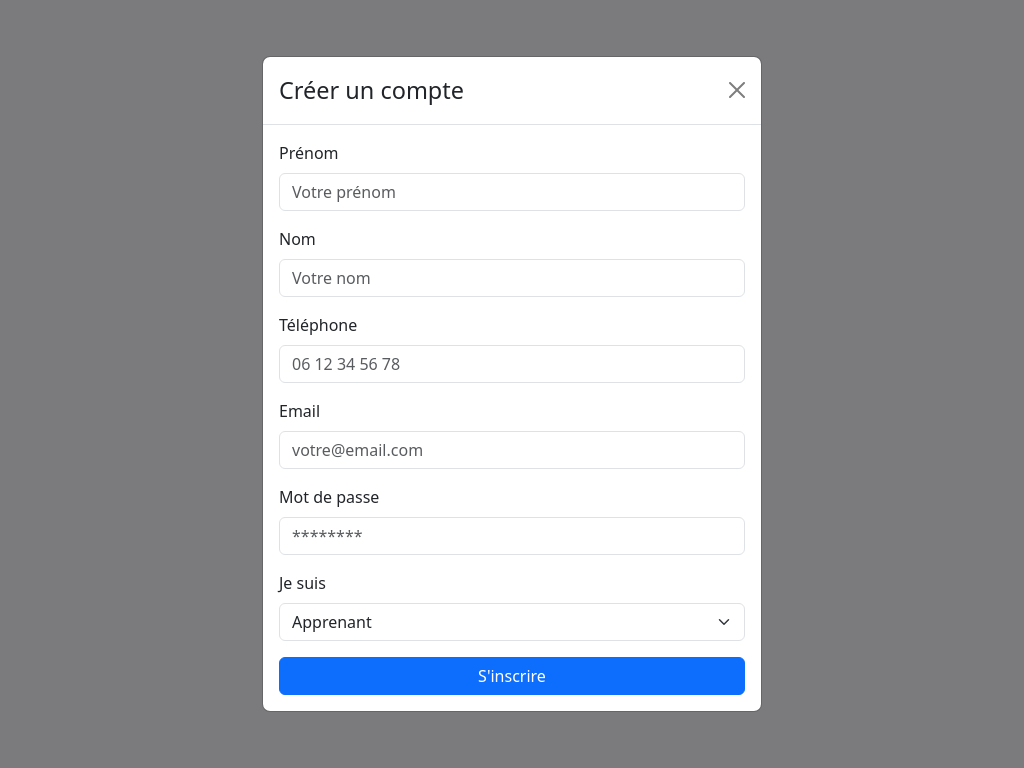
Test: RegisterModal › bloque l envoi quand la validation client echoue (mot de passe faible)
Type "Al" into the field with placeholder "Votre prénom".
click(512, 192); type("Al")  # box [279,173,745,211]
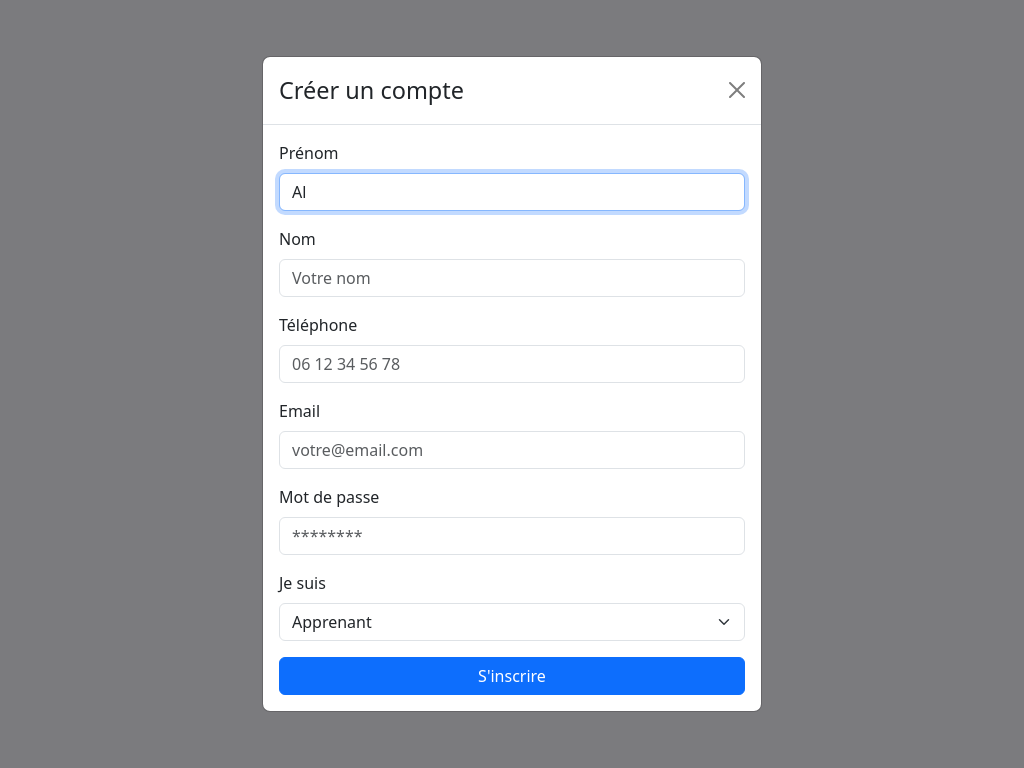
Type "Ma" into the field with placeholder "Votre nom".
click(512, 278); type("Ma")  # box [279,259,745,297]
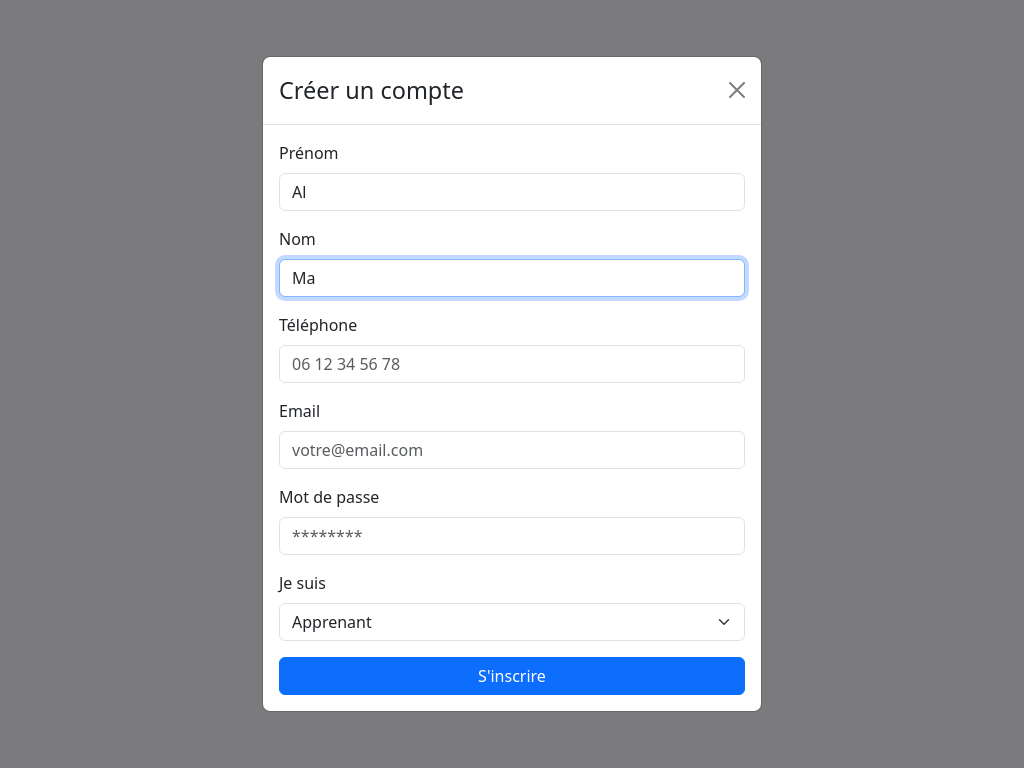
Type "+261340000000" into the field with placeholder "06 12 34 56 78".
click(512, 364); type("+261340000000")  # box [279,345,745,383]
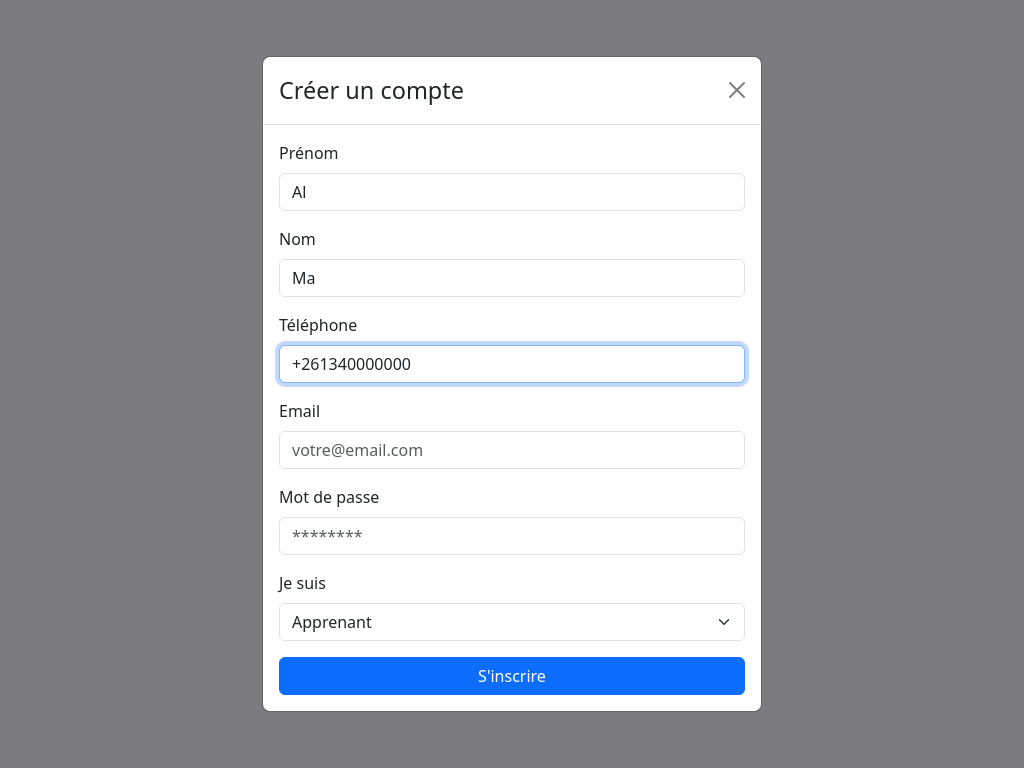
Type "al@test.com" into the field with placeholder "votre@email.com".
click(512, 450); type("al@test.com")  # box [279,431,745,469]
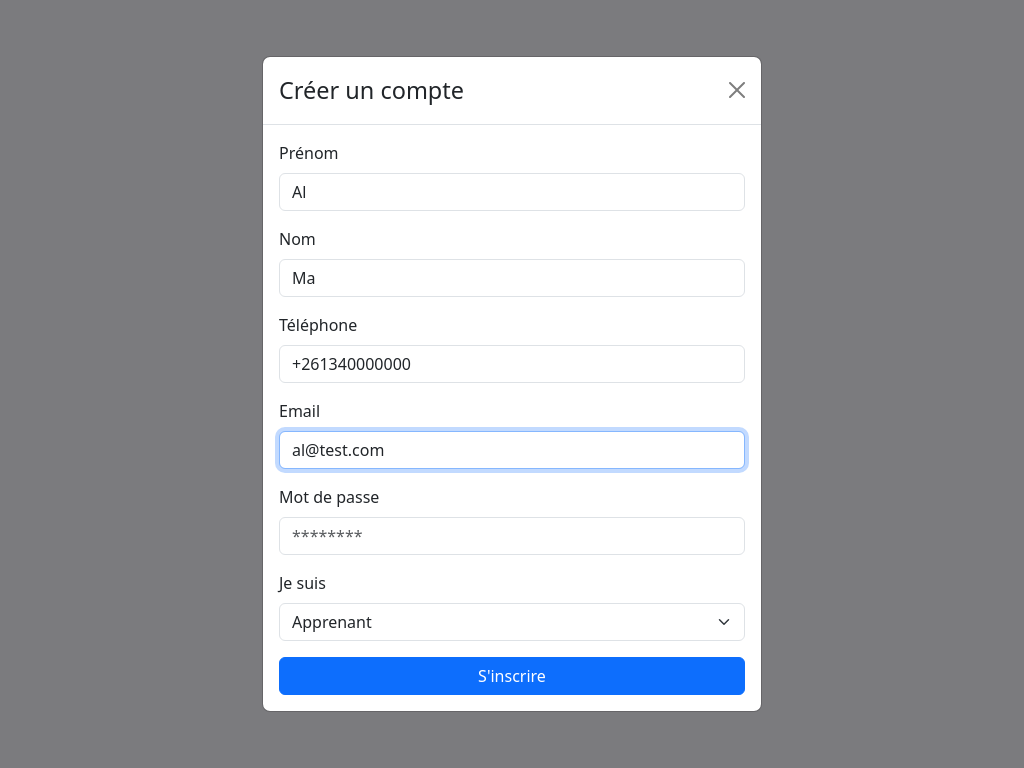
Type "pppppppp" into the password field with placeholder "********".
click(512, 536); type("pppppppp")  # box [279,517,745,555]
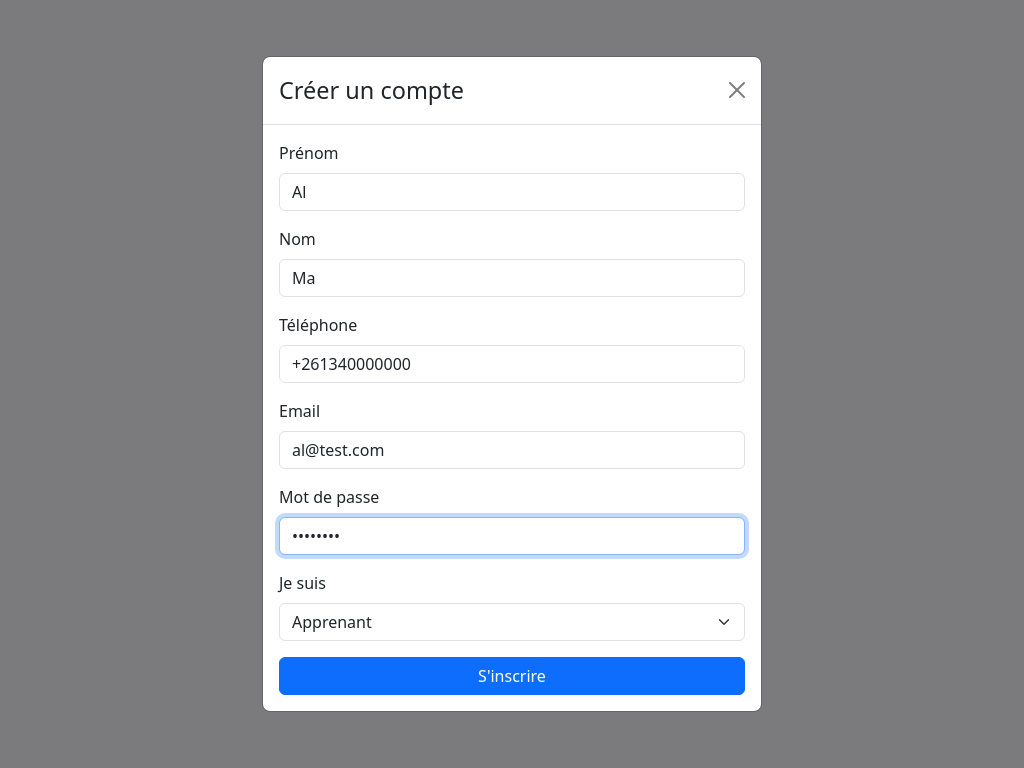
Click the button "S'inscrire".
click(512, 676)  # box [279,657,745,695]
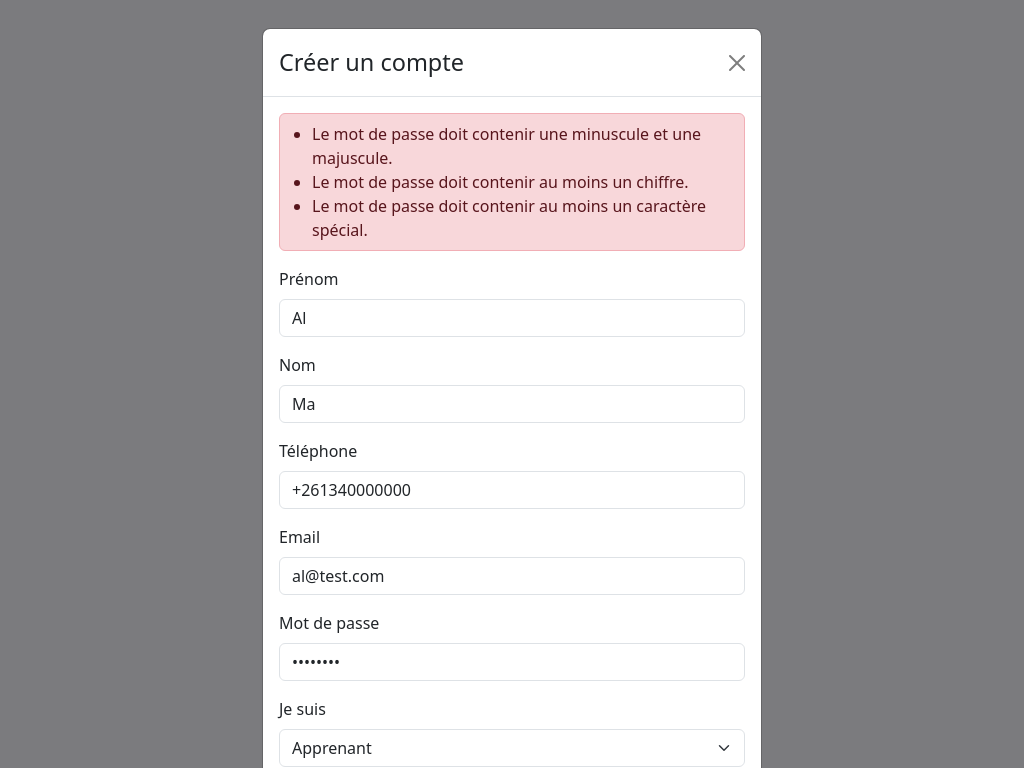
expect the list item "une minuscule et une majuscule" is shown: met, box [312,123,701,169]
